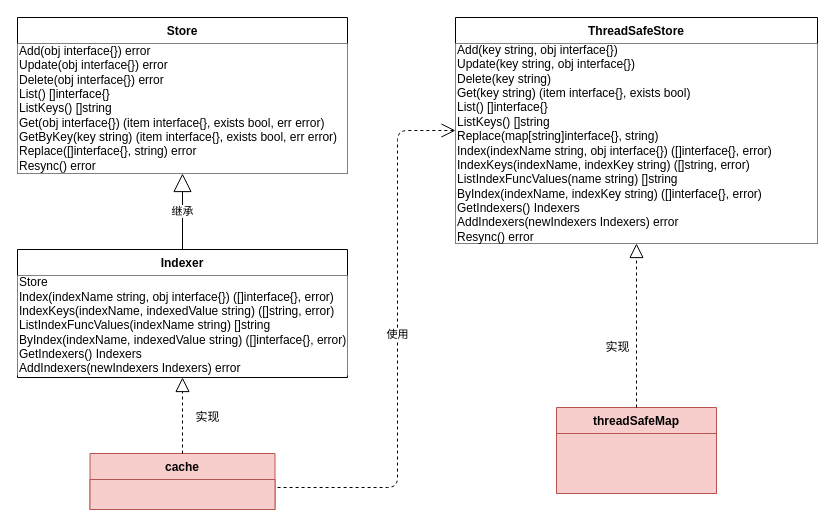
Some shapes in this 835 by 527 pixel diagram are drawn without their labels. The centre of each missing label's shape, as x and y in pixels:
cacheStorage ThreadSafeStore keyFunc KeyFunc: the point at 182,494
lock sync.RWMutex items map[string]interface{} indexers Indexers indices Indices: the point at 636,463
